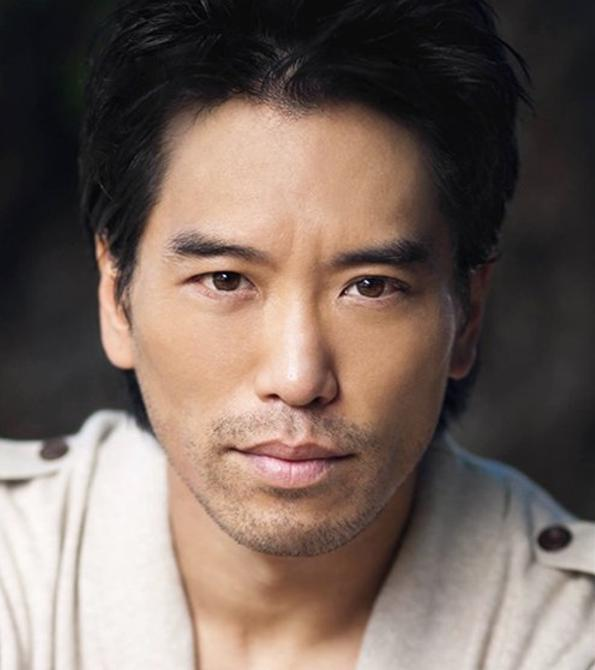Sober: (121, 115, 443, 531)
